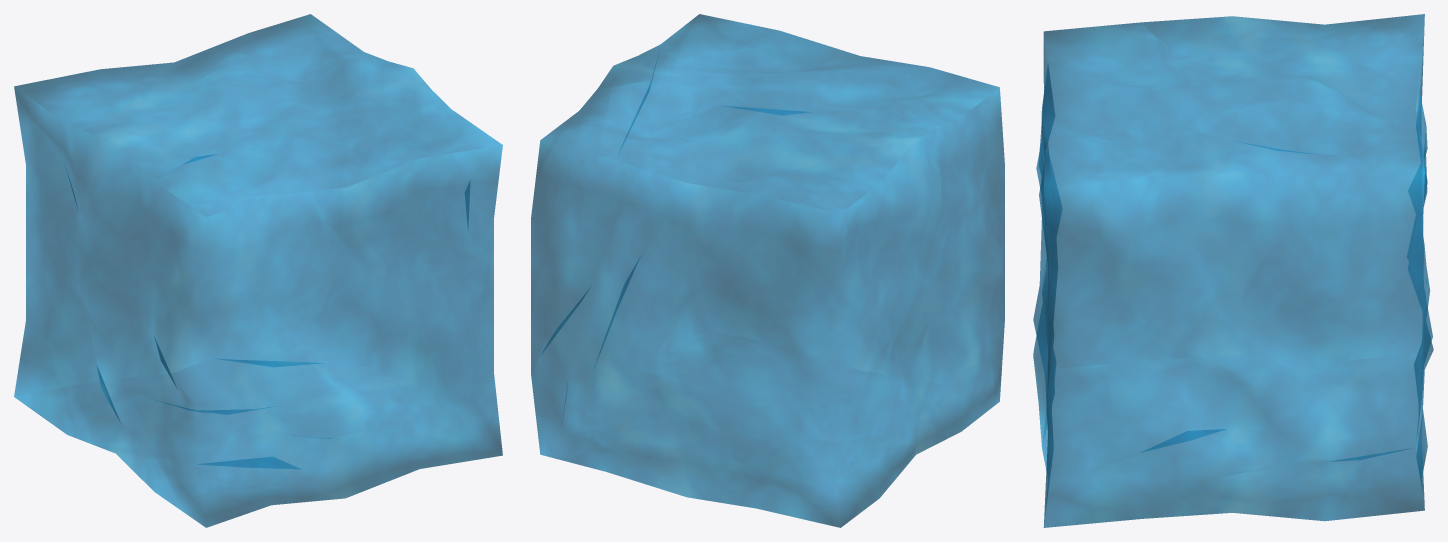
File: water.glb
3 renders of one model, left to right at view 1: azimuth 30°, elevation 25°; view 2: azimuth 150°, elevation 25°; view 3: azimuth 270°, elevation 25°, orthographic. The views are drawn at different scales.
Visible parts, largest first — view 1: Cube.001; view 2: Cube.001; view 3: Cube.001.
Boxes of the visible parts, x1,y1,x2,y2 form: Cube.001: (14, 14, 502, 527); Cube.001: (531, 14, 1004, 527); Cube.001: (1033, 14, 1433, 527).
Size of the model in its own units: 1.11 by 1.11 by 1.07.
Materials: 1 (1 with a texture image).
